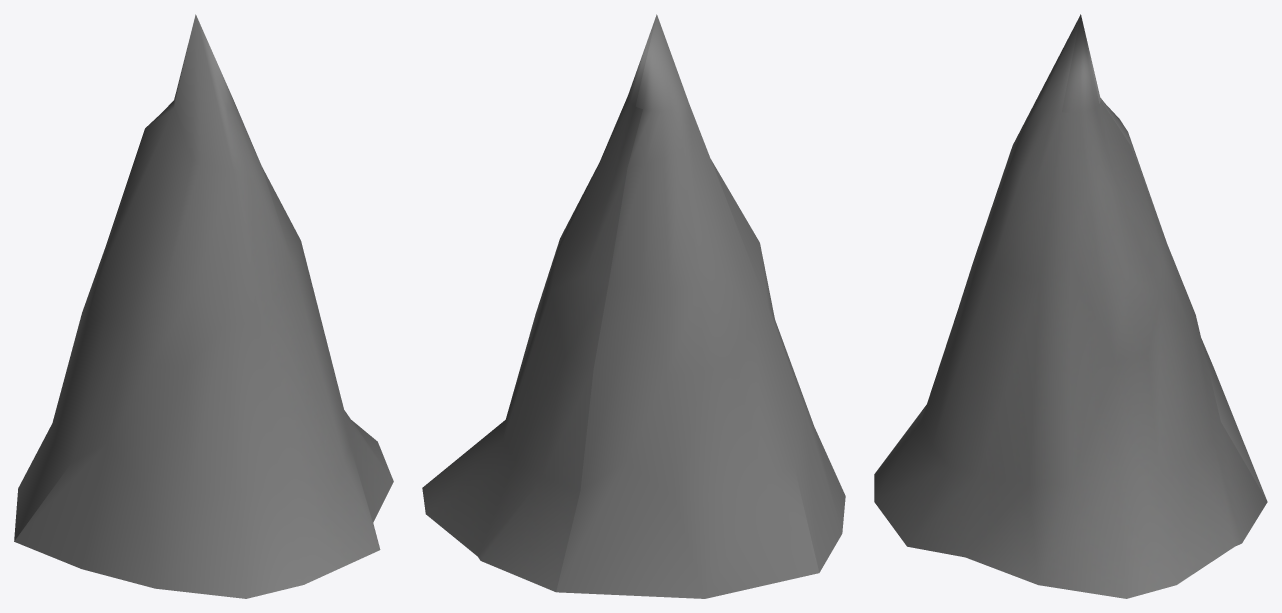
Rendered from Rock3.fbx.
3 renders of one model, left to right at view 1: azimuth 30°, elevation 25°; view 2: azimuth 150°, elevation 25°; view 3: azimuth 270°, elevation 25°, orthographic. The views are drawn at different scales.
Visible parts, largest first — view 1: pCone1; view 2: pCone1; view 3: pCone1.
Boxes of the visible parts, box(x1,y1,x2,y2) form: pCone1: box(14, 14, 393, 598); pCone1: box(422, 14, 845, 598); pCone1: box(874, 14, 1267, 598).
Bounding box in the file's own units: 13 × 16.38 × 12.
1 material, 1 textured.
